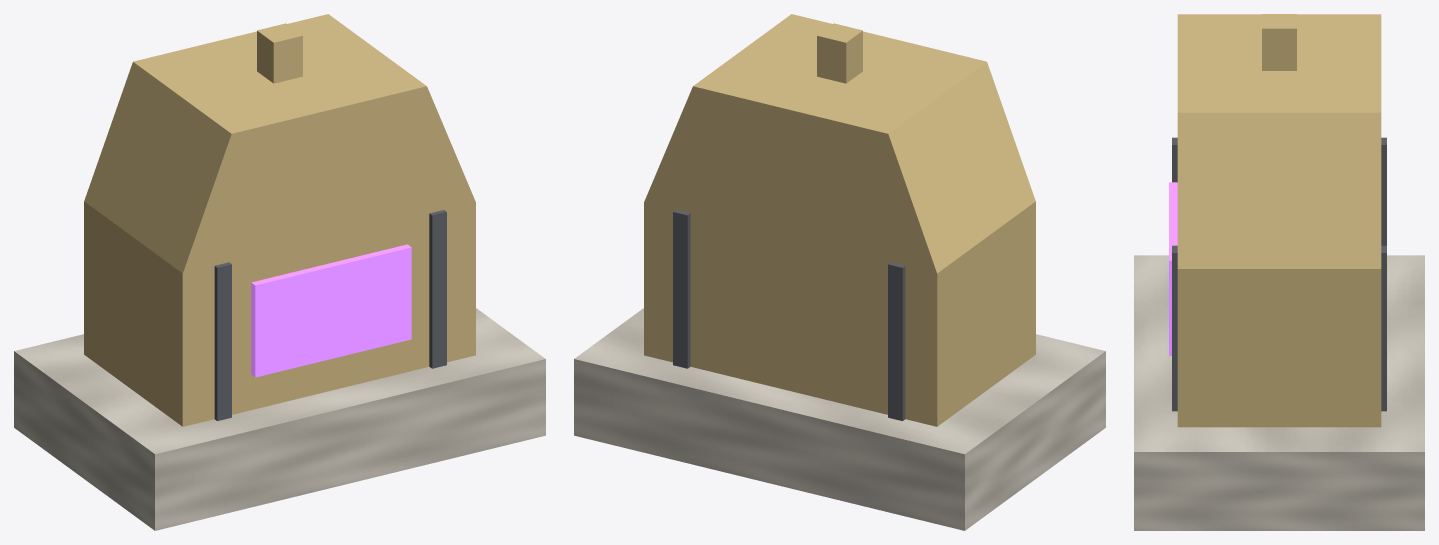
Rendered from vampire-crypt-and-gothic-cathedral-reliquary-4a52036b__23006.glb.
3 renders of one model, left to right at view 1: azimuth 30°, elevation 25°; view 2: azimuth 150°, elevation 25°; view 3: azimuth 270°, elevation 25°, orthographic. The views are drawn at different scales.
Parts seen in each view (by area): view 1: reliquary; view 2: reliquary; view 3: reliquary.
Part boxes in pixels (x1=…): reliquary: x1=14, y1=14, x2=545, y2=530; reliquary: x1=574, y1=14, x2=1105, y2=530; reliquary: x1=1134, y1=14, x2=1424, y2=530.
Size of the model in its own units: 0.8 by 0.78 by 0.5.
Materials: 5 (1 with a texture image).
